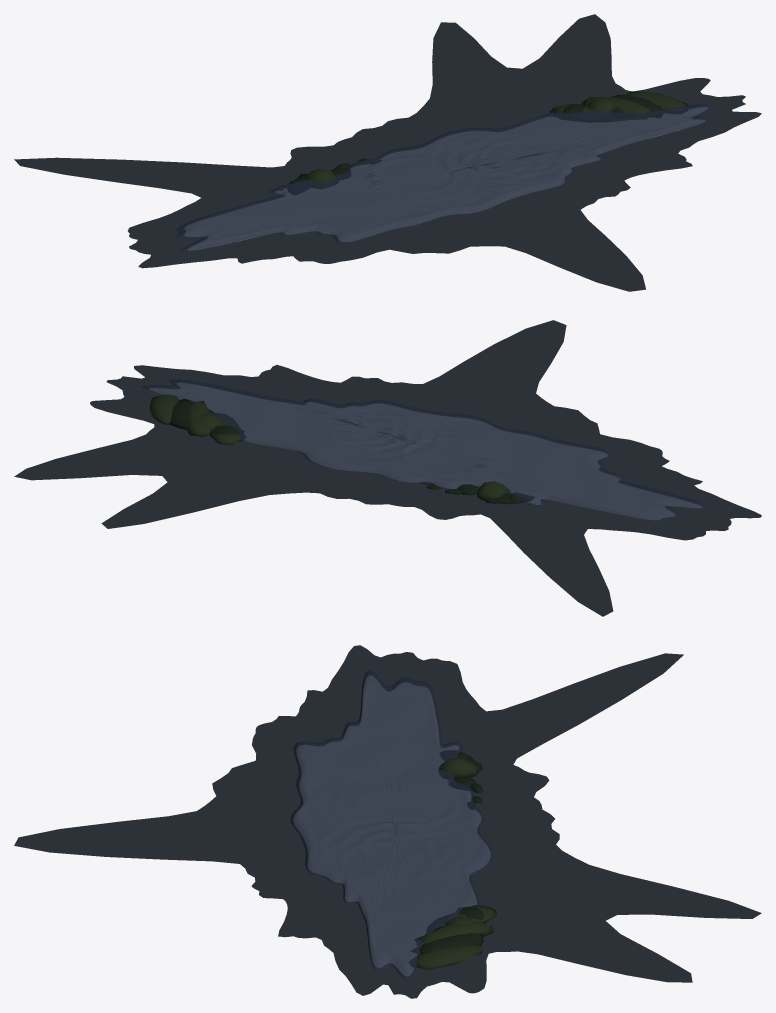
Rendered from SM_Cripta_Poca_B.glb.
3 renders of one model, top to bottom at view 1: azimuth 30°, elevation 25°; view 2: azimuth 150°, elevation 25°; view 3: azimuth 270°, elevation 25°, orthographic. The views are drawn at different scales.
Parts seen in each view (by area): view 1: Anel, Agua, Limo; view 2: Anel, Agua, Limo; view 3: Anel, Agua, Limo.
Boxes of the visible parts, left/top/right/bottom form: Anel: left=14, top=14, right=761, bottom=291; Agua: left=176, top=101, right=715, bottom=252; Limo: left=289, top=91, right=687, bottom=183; Anel: left=14, top=320, right=761, bottom=616; Agua: left=141, top=379, right=711, bottom=521; Limo: left=149, top=394, right=532, bottom=506; Anel: left=14, top=645, right=761, bottom=998; Agua: left=290, top=669, right=493, bottom=980; Limo: left=416, top=748, right=496, bottom=969.
Bounding box in the file's own units: 1.75 × 0.0284 × 1.57.
